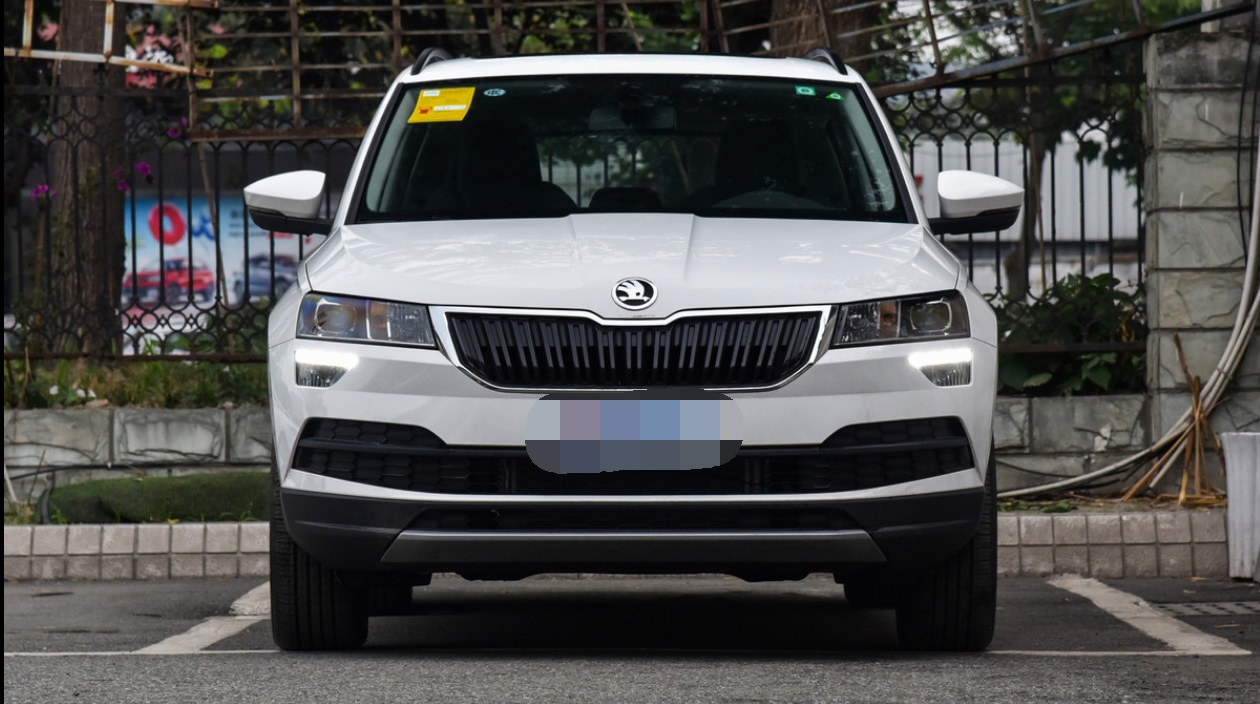SUV: (238, 40, 1026, 665)
